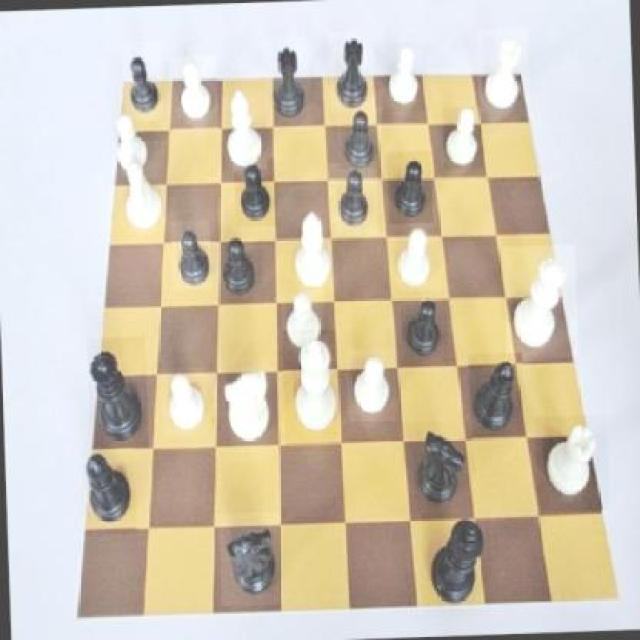bishop: (80, 443, 137, 537), (468, 354, 524, 441)
black-bishop: (421, 509, 494, 618)
black-king: (403, 420, 475, 513), (219, 512, 283, 606)
black-knight: (329, 161, 380, 237), (398, 290, 448, 366), (215, 227, 262, 306), (386, 151, 433, 224), (123, 41, 163, 120), (169, 220, 212, 291), (234, 157, 277, 227), (336, 106, 382, 170)
black-pawn: (86, 336, 149, 448)
black-queen: (262, 35, 310, 128), (329, 29, 377, 112)
black-rook: (284, 198, 338, 292), (220, 78, 267, 171)
white-bishop: (282, 330, 341, 446)
white-king: (218, 357, 274, 461), (112, 140, 166, 232)
white-knight: (346, 348, 397, 422), (158, 366, 208, 439), (170, 56, 218, 132), (391, 222, 440, 294), (108, 103, 154, 179), (383, 42, 431, 112), (280, 290, 325, 354), (441, 106, 484, 170)
white-pawn: (503, 245, 579, 360)
white-queen: (534, 416, 609, 512), (477, 28, 531, 120)
